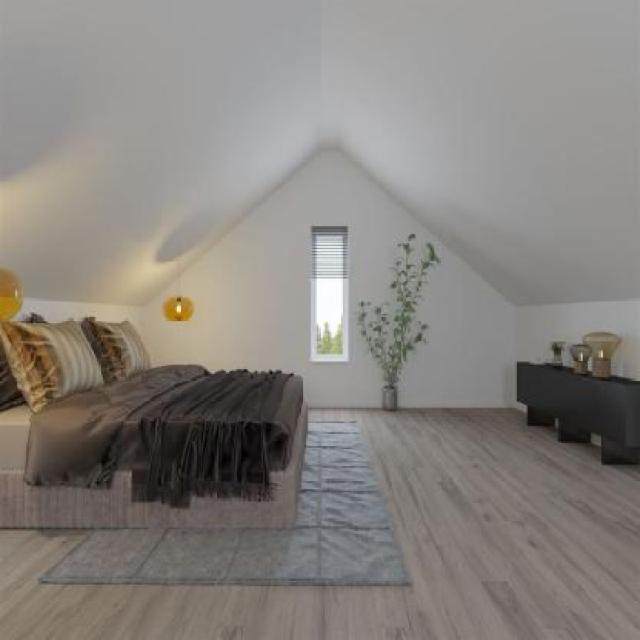floor: (2, 406, 640, 640)
